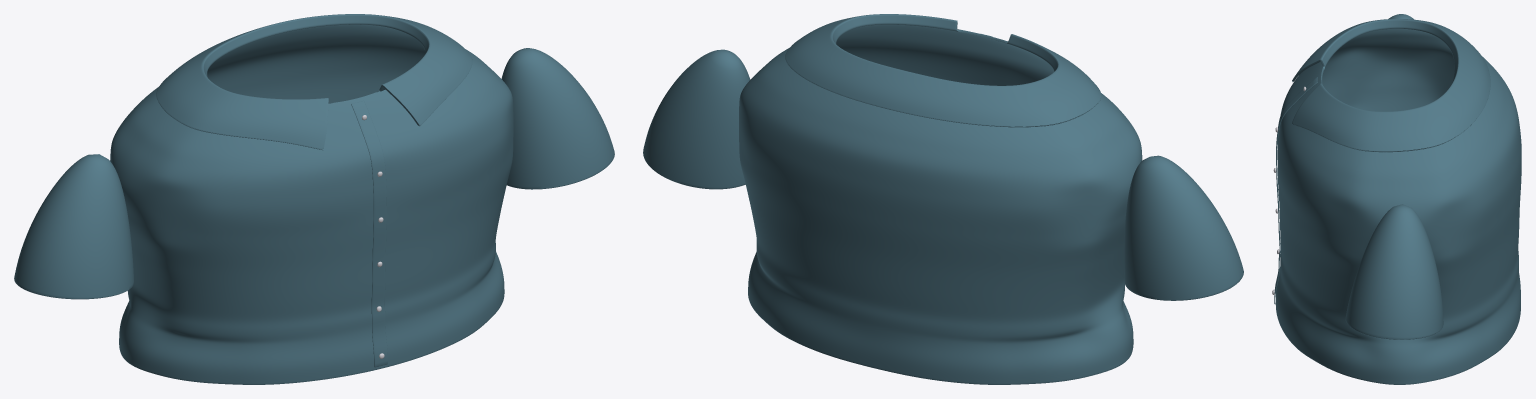
The model's file is Masculine-buttonup-top.glb.
3 views of the same model, side by side, from view 1: azimuth 30°, elevation 25°; view 2: azimuth 150°, elevation 25°; view 3: azimuth 270°, elevation 25° (orthographic). The views are drawn at different scales.
Parts seen in each view (by area): view 1: Clothing / closed torso201 buttonup, Sleeve / full fabric wrap201 -1, Sleeve / full fabric wrap201 1, Button-up / placket201; view 2: Clothing / closed torso201 buttonup, Sleeve / full fabric wrap201 -1, Sleeve / full fabric wrap201 1; view 3: Clothing / closed torso201 buttonup, Sleeve / full fabric wrap201 1, Button-up / placket201.
Part boxes in pixels (bbox=[...]): Clothing / closed torso201 buttonup: bbox=[110, 14, 513, 384]; Sleeve / full fabric wrap201 -1: bbox=[14, 154, 133, 298]; Sleeve / full fabric wrap201 1: bbox=[501, 48, 614, 189]; Button-up / placket201: bbox=[351, 101, 387, 367]; Clothing / closed torso201 buttonup: bbox=[739, 14, 1142, 384]; Sleeve / full fabric wrap201 -1: bbox=[1124, 155, 1243, 300]; Sleeve / full fabric wrap201 1: bbox=[643, 49, 750, 189]; Clothing / closed torso201 buttonup: bbox=[1275, 19, 1521, 384]; Sleeve / full fabric wrap201 1: bbox=[1345, 204, 1443, 339]; Button-up / placket201: bbox=[1274, 77, 1317, 303].
Size of the model in its own units: 1.08 by 0.4751 by 0.4401.
